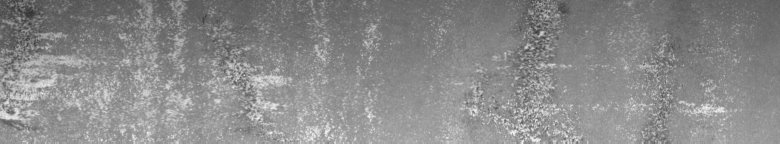hc: (4, 4, 123, 126)
